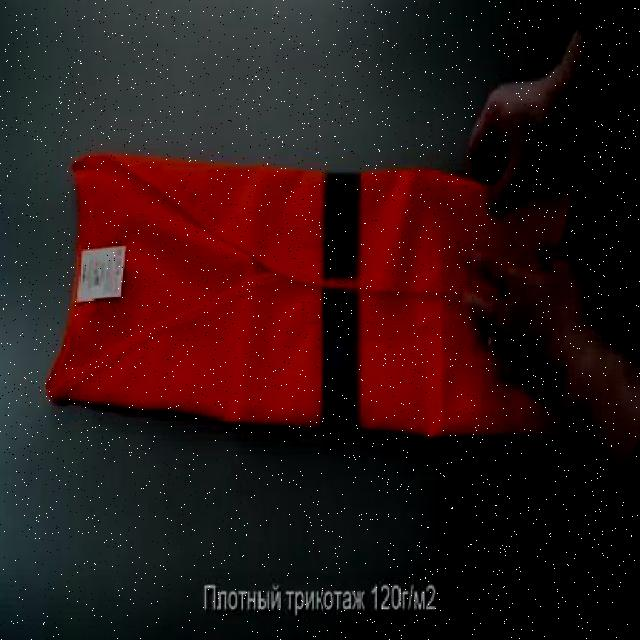Mask: (44, 154, 574, 448)
